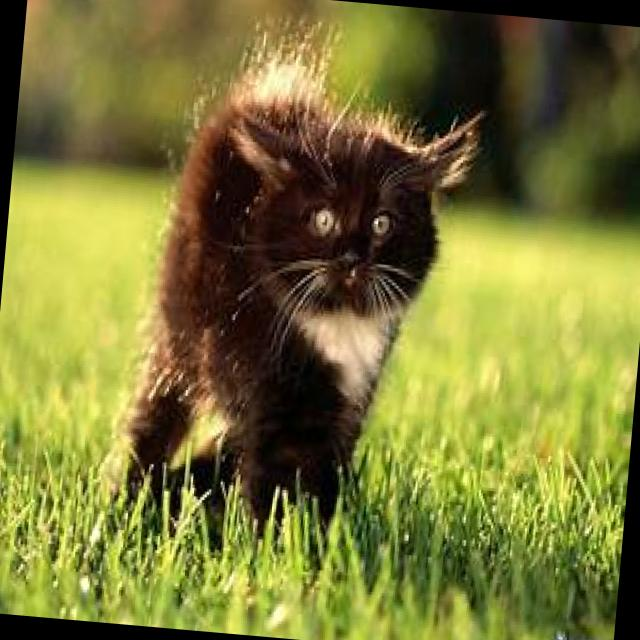cat: (91, 42, 498, 536)
